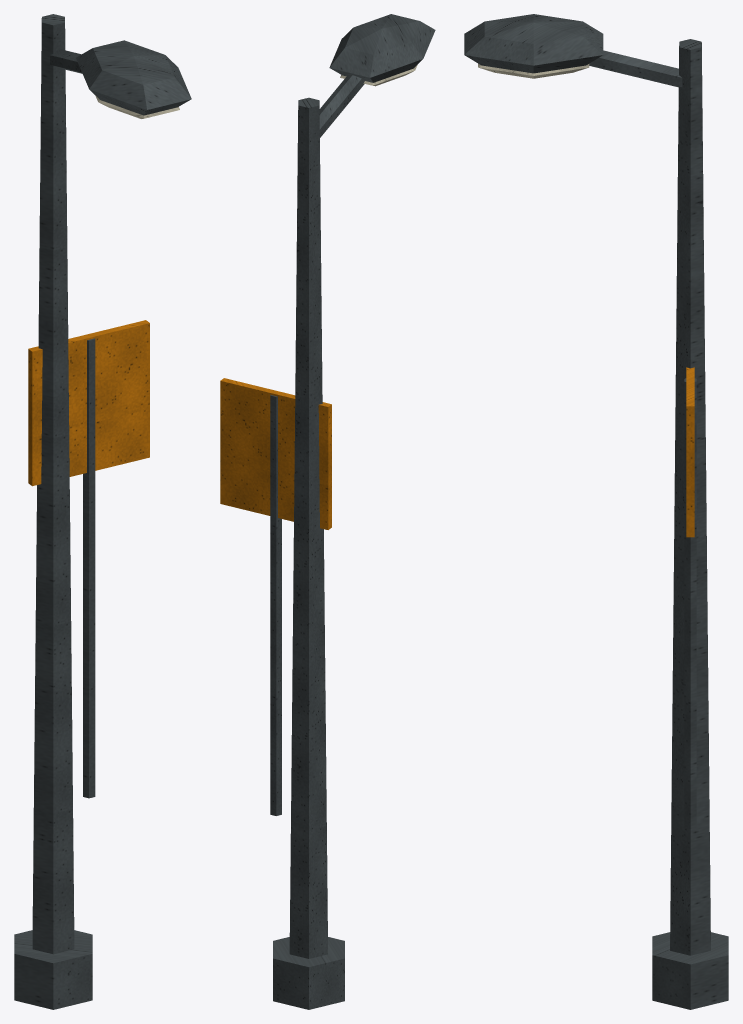
File: PROP-6E3ED951E87E_lod2.glb
3 renders of one model, left to right at view 1: azimuth 30°, elevation 25°; view 2: azimuth 150°, elevation 25°; view 3: azimuth 270°, elevation 25°, orthographic. The views are drawn at different scales.
Visible parts, largest first — view 1: pole.001, sign_plate.001, lamp_head.001, sign_post.001, pole_base.001, lamp_arm.001; view 2: pole.001, sign_plate.001, lamp_head.001, sign_post.001, pole_base.001, lamp_arm.001; view 3: pole.001, lamp_head.001, sign_post.001, pole_base.001, lamp_arm.001, sign_plate.001, light_diffuser.001.
Boxes of the visible parts, box(x1,y1,x2,y2) form: pole.001: box(32, 14, 74, 954); sign_plate.001: box(28, 320, 149, 486); lamp_head.001: box(76, 40, 191, 115); sign_post.001: box(83, 338, 95, 798); pole_base.001: box(14, 930, 92, 1009); lamp_arm.001: box(50, 49, 82, 73); pole.001: box(289, 97, 327, 958); sign_plate.001: box(220, 378, 331, 529); lamp_head.001: box(329, 14, 435, 82); sign_post.001: box(270, 394, 281, 815); pole_base.001: box(273, 937, 344, 1009); lamp_arm.001: box(319, 75, 364, 137); pole.001: box(670, 39, 710, 955); lamp_head.001: box(464, 14, 603, 73); sign_post.001: box(684, 378, 696, 828); pole_base.001: box(652, 932, 728, 1009); lamp_arm.001: box(589, 50, 682, 87); sign_plate.001: box(686, 367, 694, 537); light_diffuser.001: box(478, 63, 589, 78).
Size of the model in its own units: 0.78 by 5.32 by 1.32.
3 materials, 3 textured.
